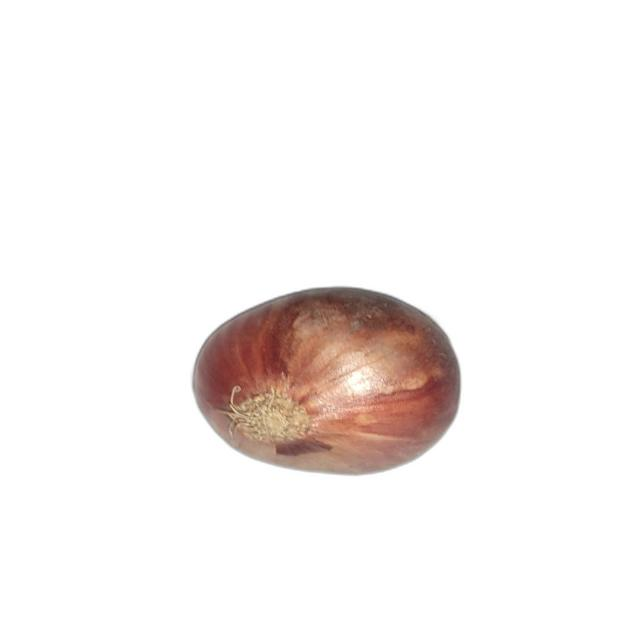onion: (191, 286, 463, 478)
